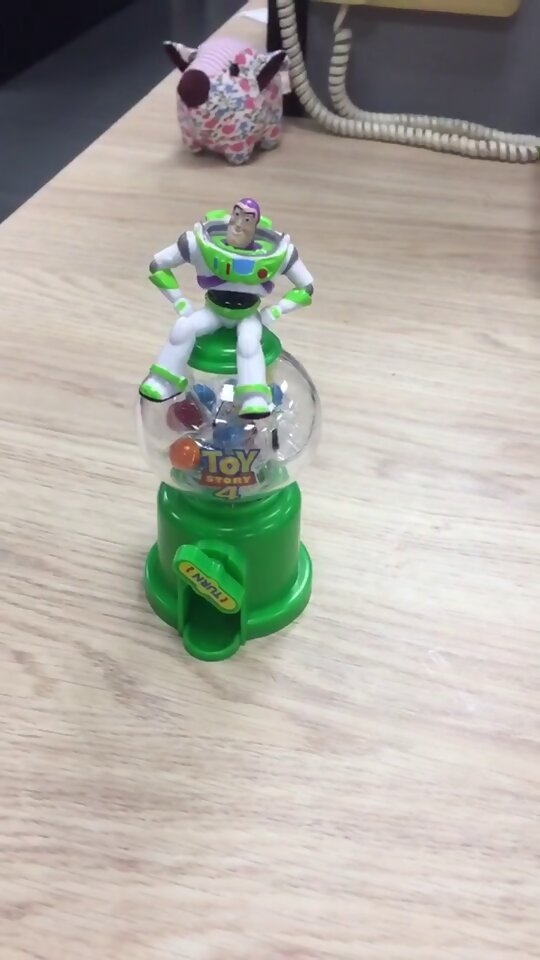buzz: (131, 189, 319, 666)
